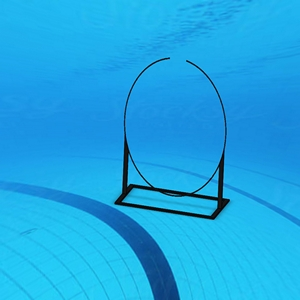circle: (108, 49, 233, 224)
